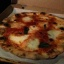pizza: (1, 13, 64, 60)
